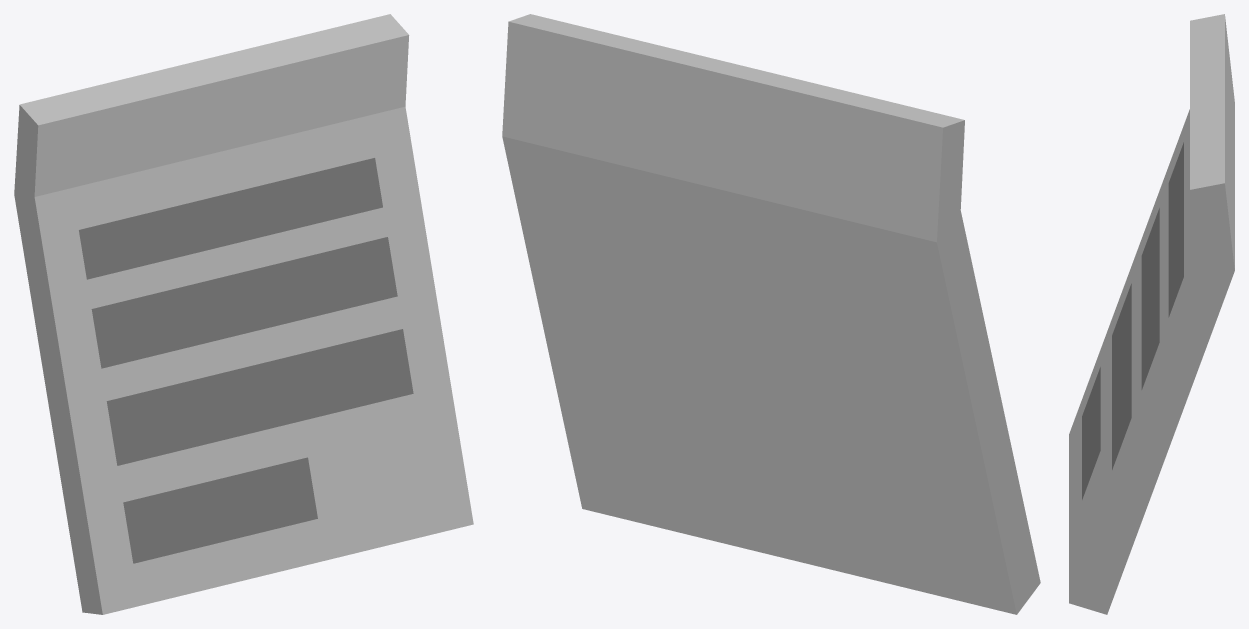
Rendered from OrderPaper.glb.
The picture shows the model from 3 angles, left to right: view 1: azimuth 30°, elevation 25°; view 2: azimuth 150°, elevation 25°; view 3: azimuth 270°, elevation 25°; orthographic projection. The views are drawn at different scales.
Parts seen in each view (by area): view 1: SI_Prop_OrderPaper_01; view 2: SI_Prop_OrderPaper_01; view 3: SI_Prop_OrderPaper_01.
Part boxes in pixels (<box>): SI_Prop_OrderPaper_01: <box>14,14,473,614</box>; SI_Prop_OrderPaper_01: <box>502,14,1040,614</box>; SI_Prop_OrderPaper_01: <box>1069,14,1234,614</box>.
Size of the model in its own units: 0.00306 by 0.00364 by 0.00127.
Materials: 1 (1 with a texture image).
